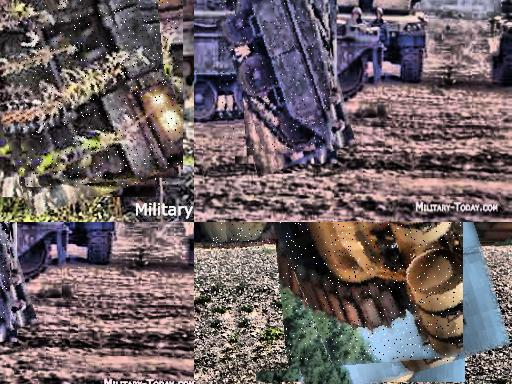tanks: (20, 1, 183, 187), (278, 223, 463, 362), (221, 1, 331, 151), (320, 1, 429, 83), (69, 223, 117, 265)
